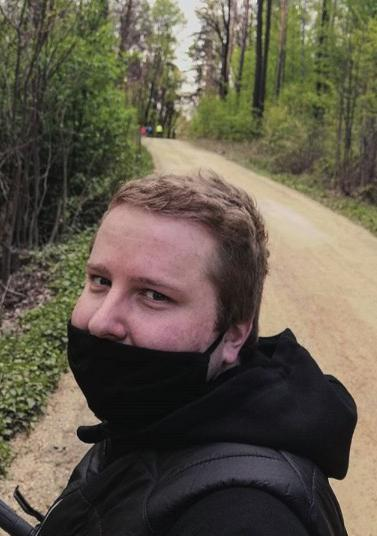mask_weared_incorrect: (60, 235, 227, 399)
